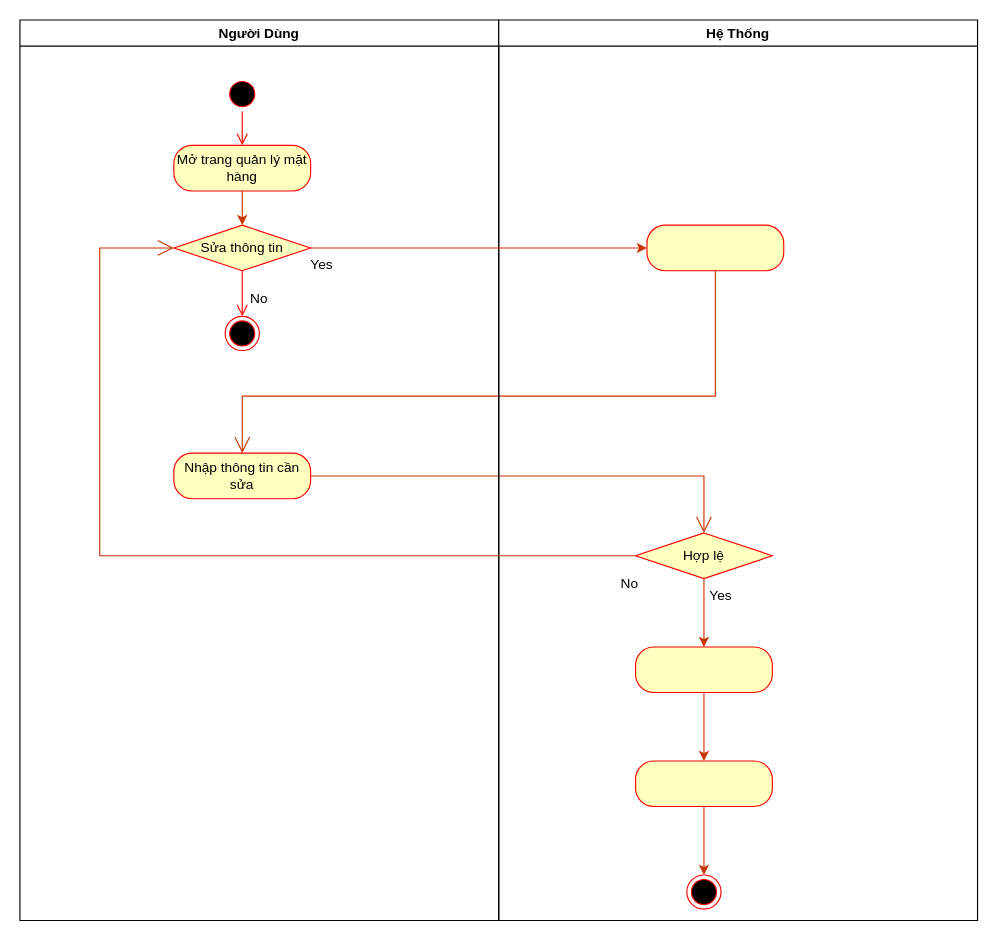
Image size: 998x941. Some labels were removed from this diagram. Here are the shapes that lost their labels. From the top down, the centre of each, then its label:
the point at 715,247: Hiển thị thông tin
the point at 703,669: Lưu vào database
the point at 703,783: Thông báo thành công
